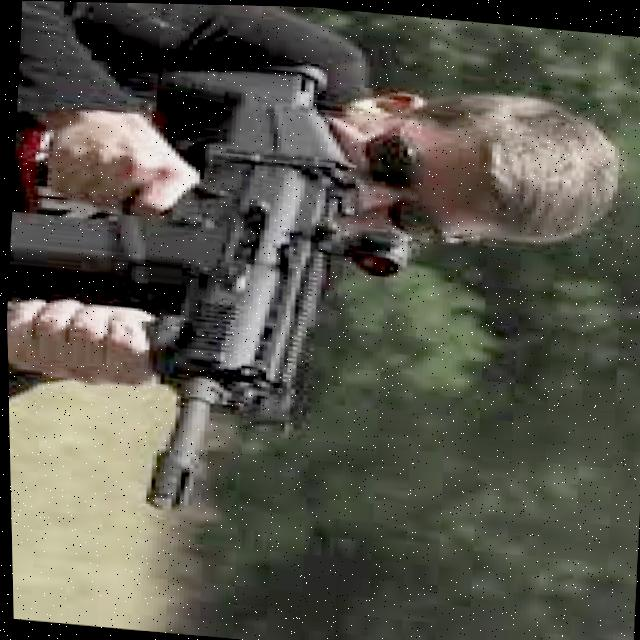firearm: (1, 35, 427, 529)
